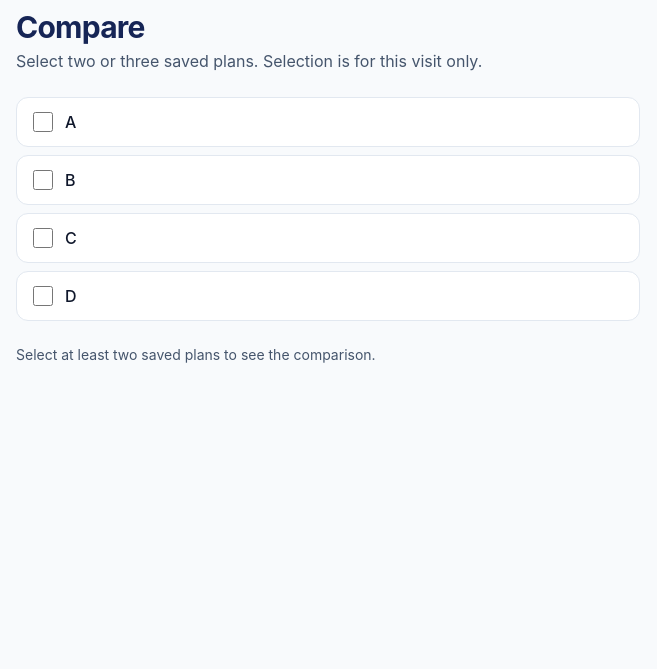
Compare page › allows selecting up to three plans and blocks a fourth
Click the checkbox labelled "A": (43, 122) [33,112,53,132]
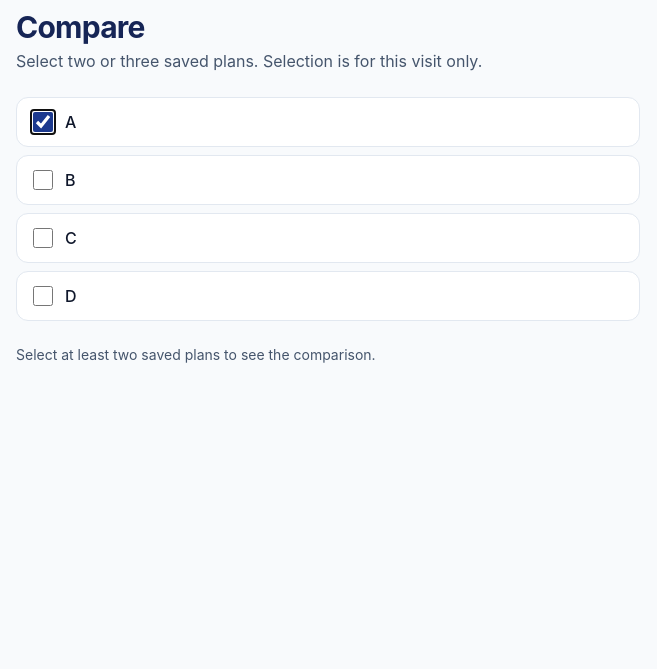
Click the checkbox labelled "B": (43, 180) [33,170,53,190]
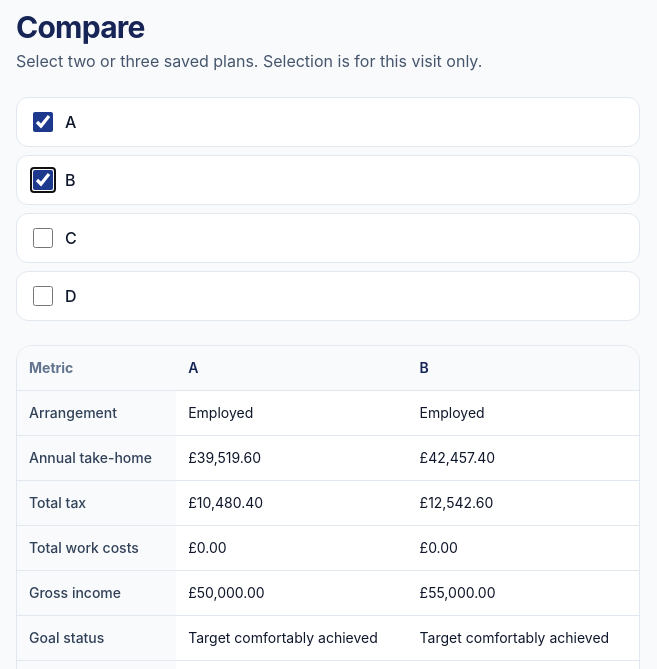
Now the column heading "Annual take-home" is shown, box [17,436,176,480]
Click the checkbox labelled "C": (43, 238) [33,228,53,248]
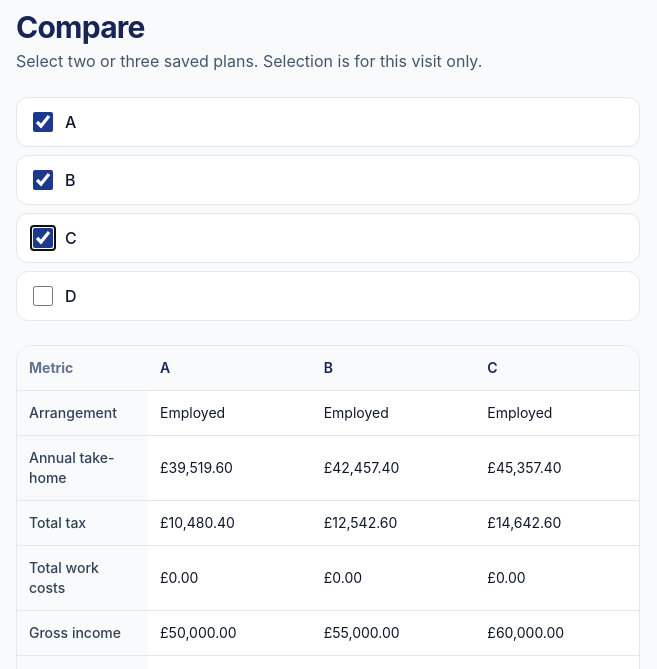
Click the checkbox labelled "D": (43, 296) [33,286,53,306]
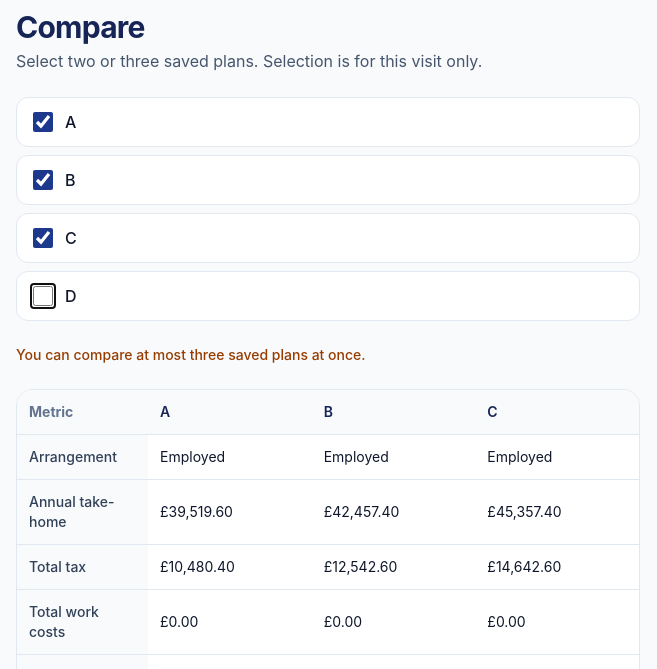
Now the message shows "at most three saved plans", box [16,346,366,363]
